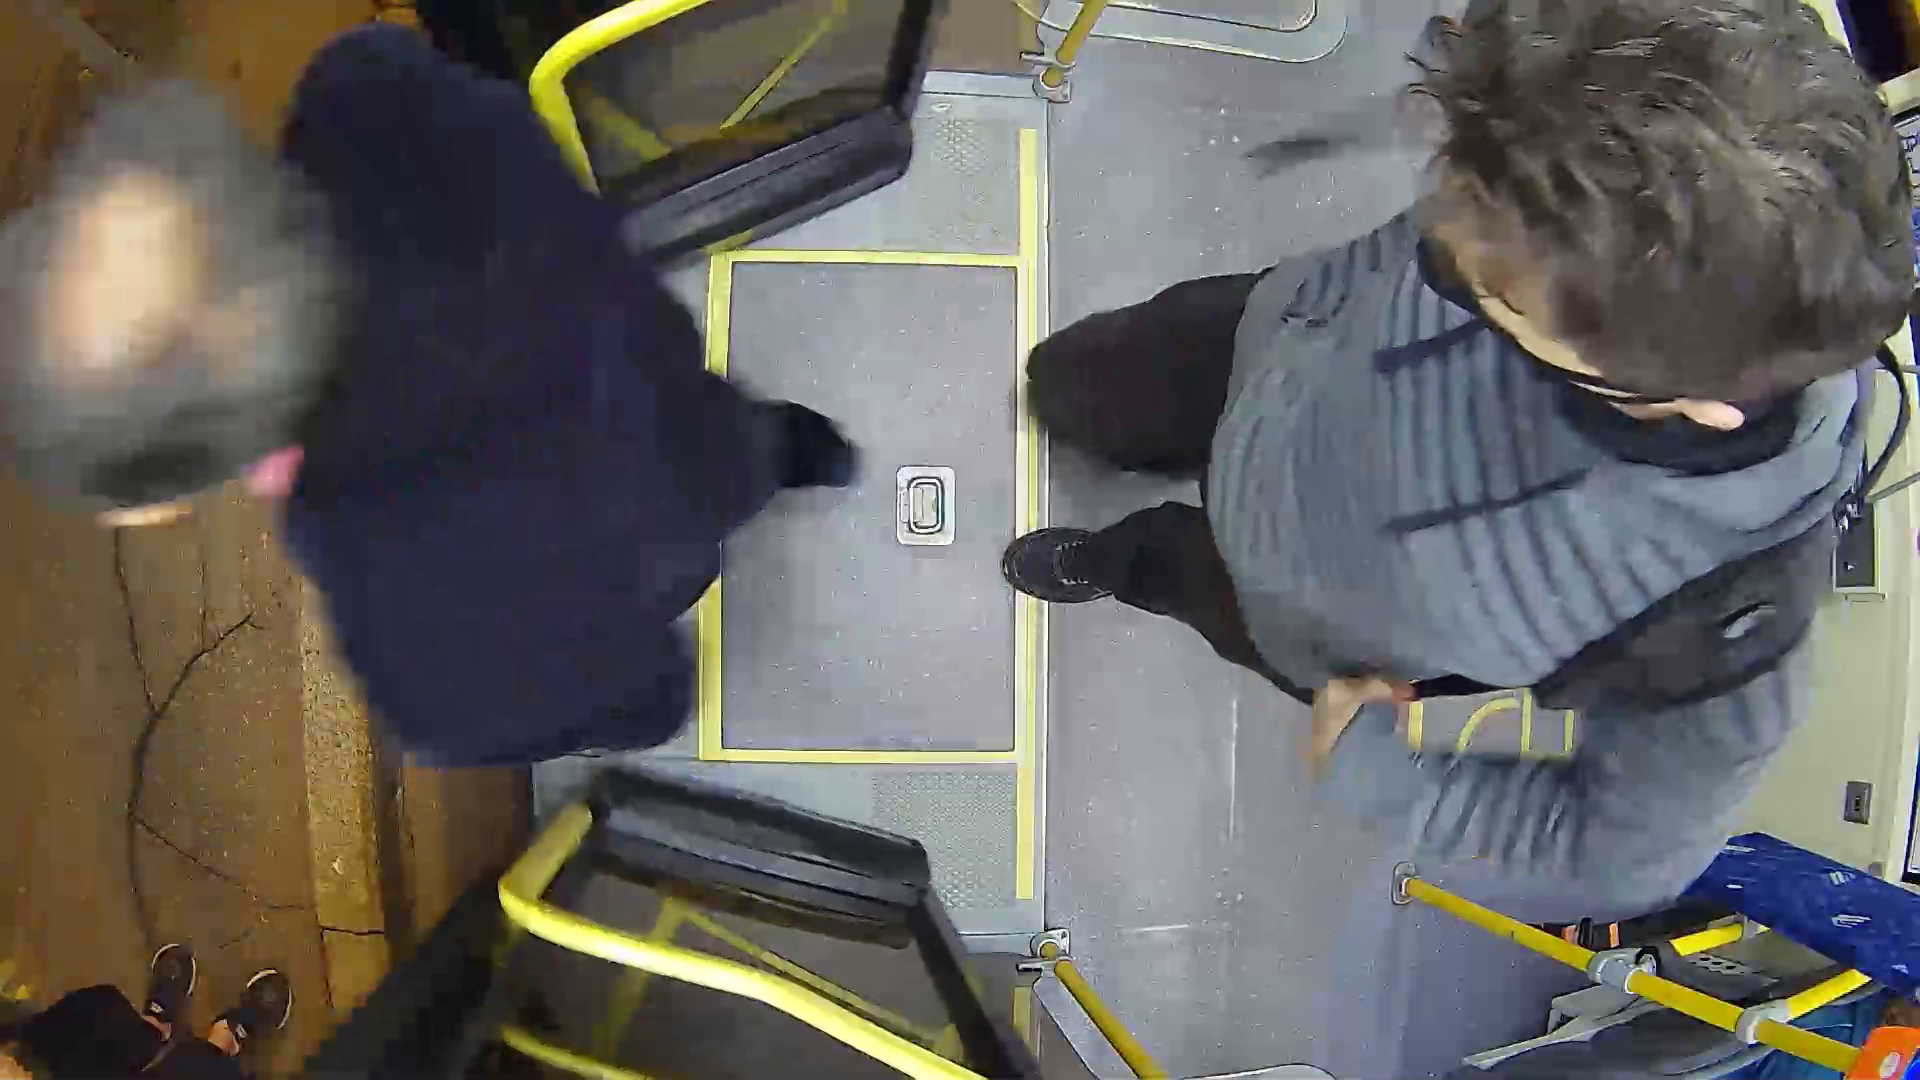person: (24, 60, 919, 801), (1066, 26, 1897, 814)
